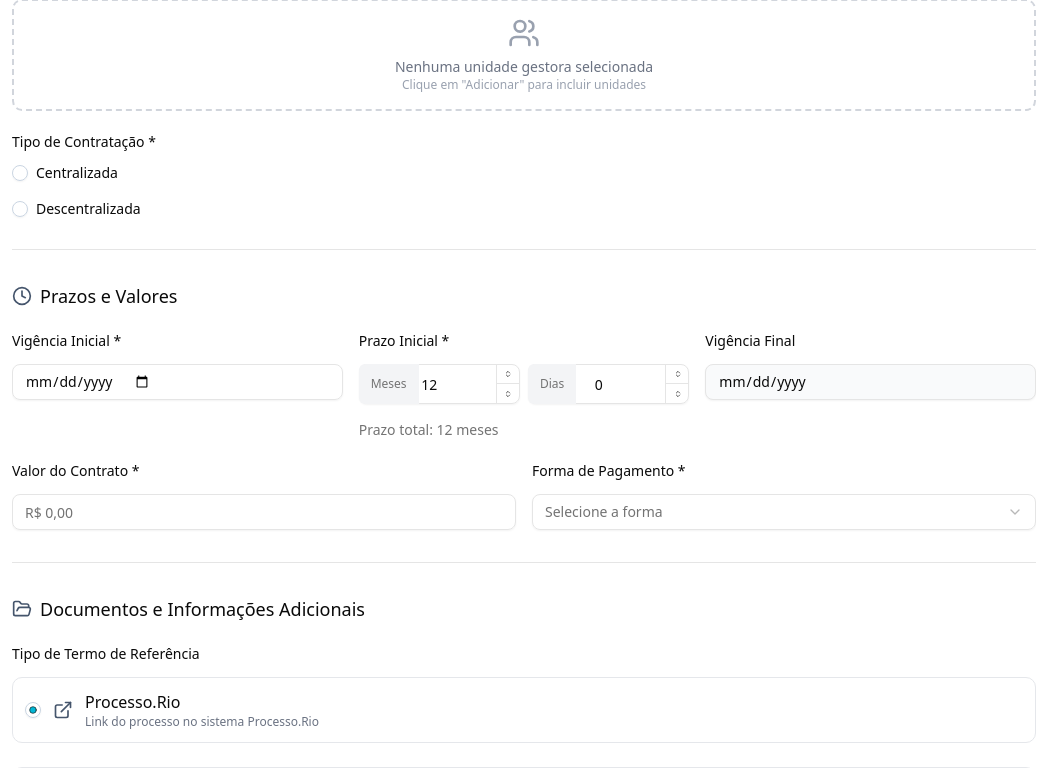
Test: ContratoForm › deve exibir prazo total calculado
(page scrolled)
Expected: the text "Prazo total:" is shown, left=359, top=420, right=433, bottom=439
Expected: the text "12 meses" is shown, left=437, top=420, right=499, bottom=439
# Encontra o campo de dias e altera para incluir dias
Type "15" into the field with test id "prazo-dias-input" at (609, 384), box left=528, top=364, right=689, bottom=404
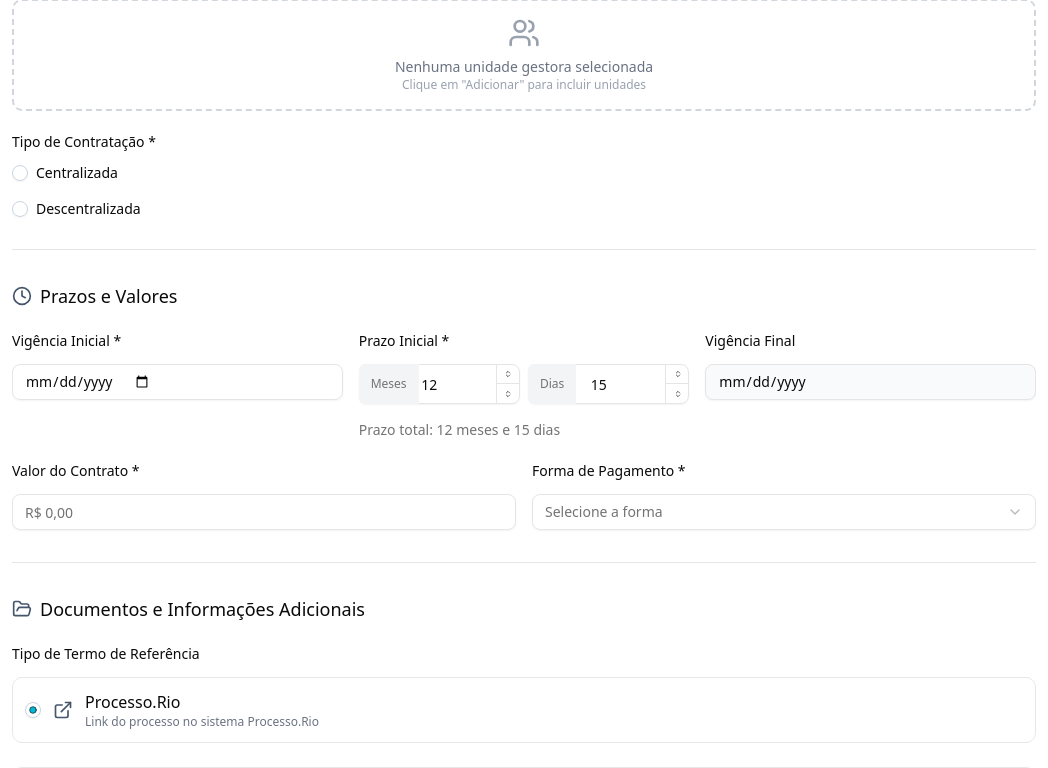
Expected: the text "12 meses e 15 dias" is shown, left=437, top=420, right=560, bottom=439
